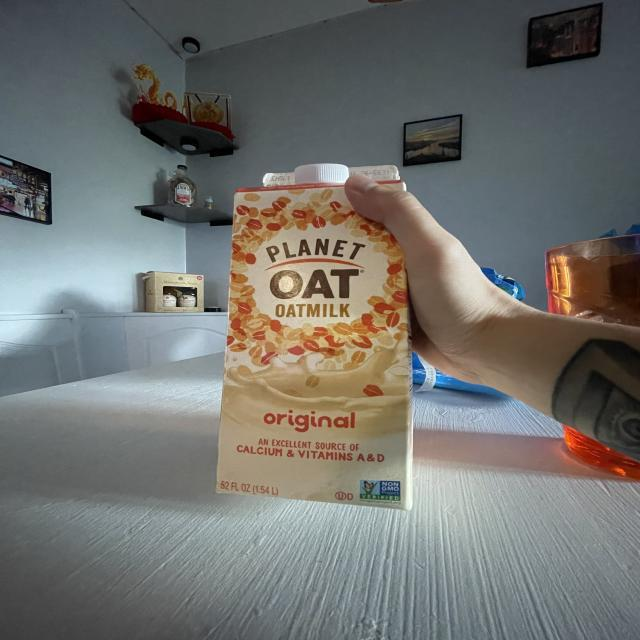Planet Oat Original: (207, 157, 430, 529)
